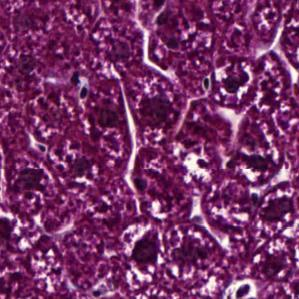inflammation: (122, 220, 169, 271), (233, 140, 280, 185), (210, 54, 253, 103), (256, 187, 295, 232)
